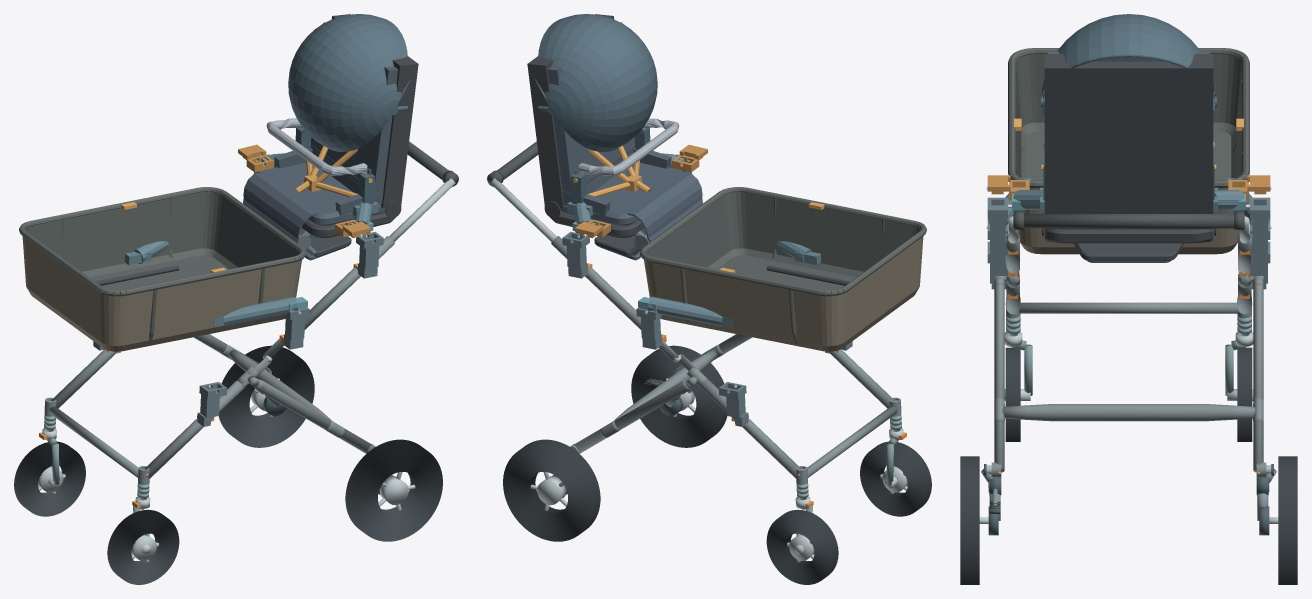
File: D17_w650_state1_wheel_M.glb
The picture shows the model from 3 angles, left to right: view 1: azimuth 30°, elevation 25°; view 2: azimuth 150°, elevation 25°; view 3: azimuth 270°, elevation 25°; orthographic projection. The views are drawn at different scales.
Visible parts, largest first — view 1: D17_Lower, D17_Upper, RL_tire.008, RR_tire.008, FL_tire.008, FR_tire.008, D17_Lower_Mount_M, V46_rear_leg_-1.009, main_lower_-1.009, front_fixed_round_tube.008, main_upper_-1.009, Universal_Cabin_Receiver_H_-1 (+8 smaller); view 2: D17_Lower, D17_Upper, RR_tire.008, RL_tire.008, FR_tire.008, FL_tire.008, D17_Lower_Mount_M, V46_rear_leg_1.009, main_lower_1.009, front_fixed_round_tube.008, main_upper_1.009, Universal_Cabin_Receiver_H_1 (+8 smaller); view 3: D17_Upper, D17_Lower, V46_rearbar.009, round_handle.008, front_fixed_round_tube.008, RL_tire.008, RR_tire.008, V46_rear_leg_1.009, V46_rear_leg_-1.009, D17_Upper_Mount_H, FL_tire.008, FR_tire.008 (+6 smaller).
Part boxes in pixels (x1,y1,x2,y2): D17_Lower: (19, 187, 305, 351); D17_Upper: (243, 14, 418, 260); RL_tire.008: (345, 439, 442, 541); RR_tire.008: (218, 345, 314, 447); FL_tire.008: (107, 509, 179, 584); FR_tire.008: (14, 441, 85, 516); D17_Lower_Mount_M: (125, 241, 307, 327); V46_rear_leg_-1.009: (255, 380, 371, 453); main_lower_-1.009: (144, 380, 247, 478); front_fixed_round_tube.008: (48, 406, 138, 477); main_upper_-1.009: (304, 236, 394, 329); Universal_Cabin_Receiver_H_-1: (356, 231, 383, 278); D17_Lower: (640, 187, 926, 351); D17_Upper: (527, 14, 702, 260); RR_tire.008: (503, 439, 600, 541); RL_tire.008: (631, 345, 727, 447); FR_tire.008: (766, 509, 838, 584); FL_tire.008: (860, 441, 931, 516); D17_Lower_Mount_M: (638, 241, 820, 327); V46_rear_leg_1.009: (574, 380, 690, 453); main_lower_1.009: (698, 380, 801, 478); front_fixed_round_tube.008: (807, 406, 897, 477); main_upper_1.009: (551, 236, 641, 329); Universal_Cabin_Receiver_H_1: (562, 231, 589, 278); D17_Upper: (1041, 14, 1216, 262); D17_Lower: (1008, 48, 1249, 254); V46_rearbar.009: (1002, 404, 1255, 421); round_handle.008: (1013, 214, 1244, 228); front_fixed_round_tube.008: (1018, 302, 1239, 313); RL_tire.008: (960, 456, 979, 584); RR_tire.008: (1278, 456, 1297, 584); V46_rear_leg_1.009: (1253, 283, 1263, 472); V46_rear_leg_-1.009: (994, 283, 1004, 472); D17_Upper_Mount_H: (1008, 187, 1249, 212); FL_tire.008: (1005, 347, 1020, 441); FR_tire.008: (1237, 347, 1252, 441).
Size of the model in its own units: 1.18 by 1.48 by 0.7871.
